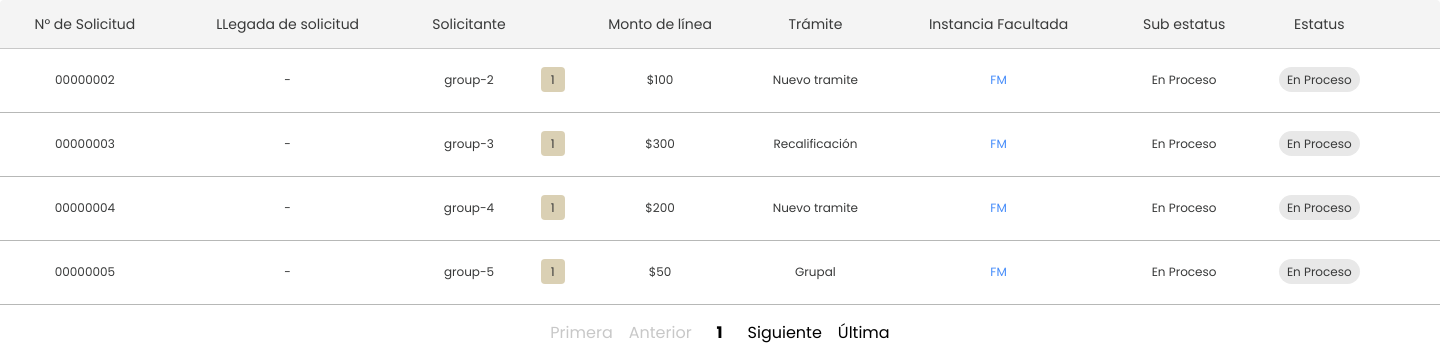
Test: TableRequests Component › it sorts data ascending based on the column when clicking a column header twice
Click the text "Monto de línea" at point(660, 24), box [608,14,712,34]
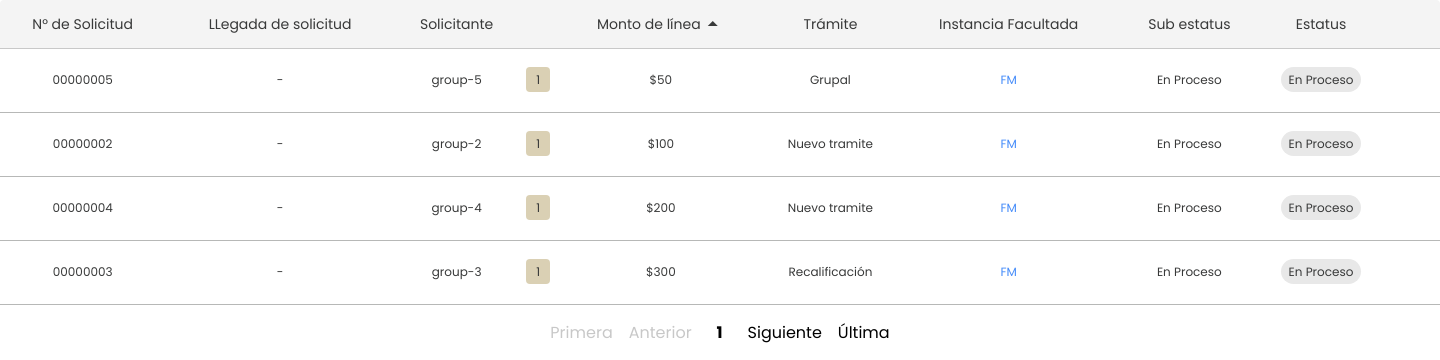
Now the text "$50" is shown, box [558,48,764,112]
Now the text "$100" is shown, box [558,112,764,176]
Now the text "$300" is shown, box [558,240,764,304]
